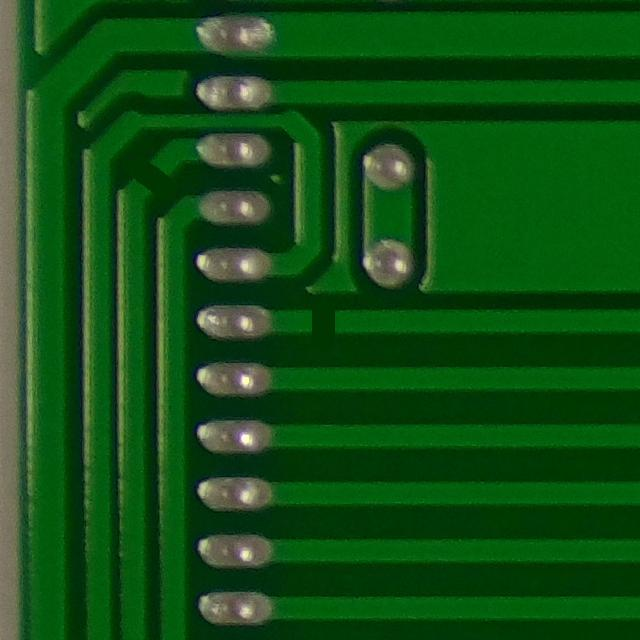open_circuit: (294, 288, 347, 352)
